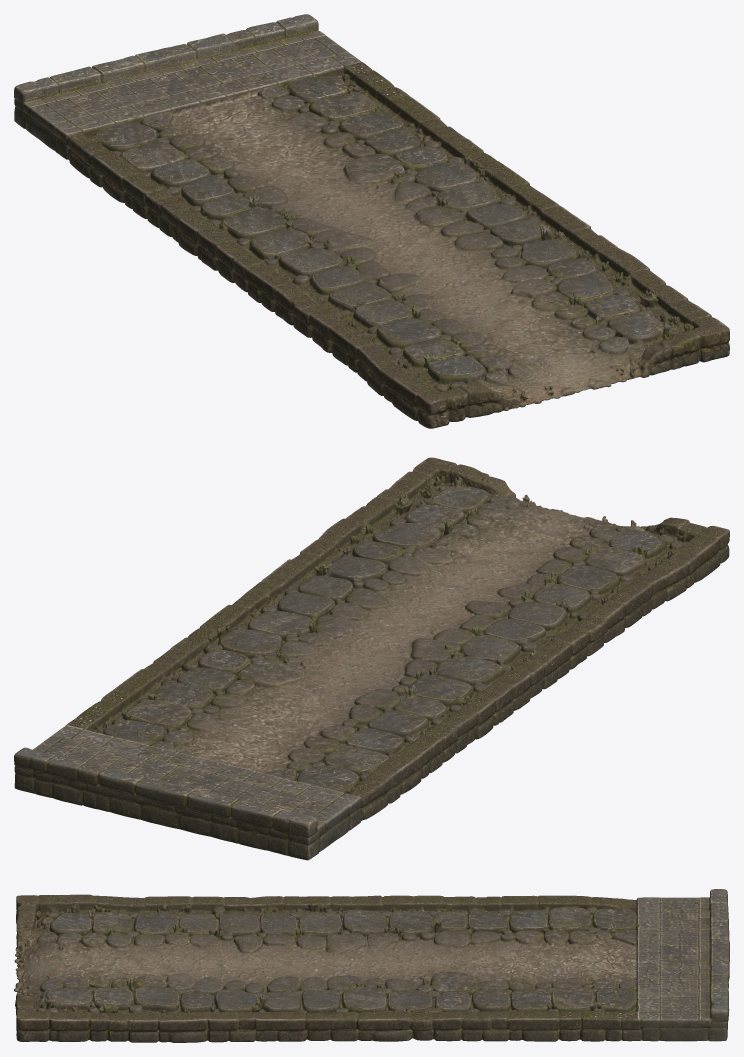
Rendered from Meshy_AI_road_bridge_approach_0823031848_image-to-3d-texture.glb.
The picture shows the model from 3 angles, top to bottom: view 1: azimuth 30°, elevation 25°; view 2: azimuth 150°, elevation 25°; view 3: azimuth 270°, elevation 25°; orthographic projection. The views are drawn at different scales.
Visible parts, largest first — view 1: mesh_node; view 2: mesh_node; view 3: mesh_node.
Boxes of the visible parts, box(x1,y1,x2,y2) form: mesh_node: box(14, 14, 729, 428); mesh_node: box(14, 457, 729, 860); mesh_node: box(14, 889, 729, 1042).
Size of the model in its own units: 0.8026 by 0.0918 by 1.9.
1 material, 1 textured.
